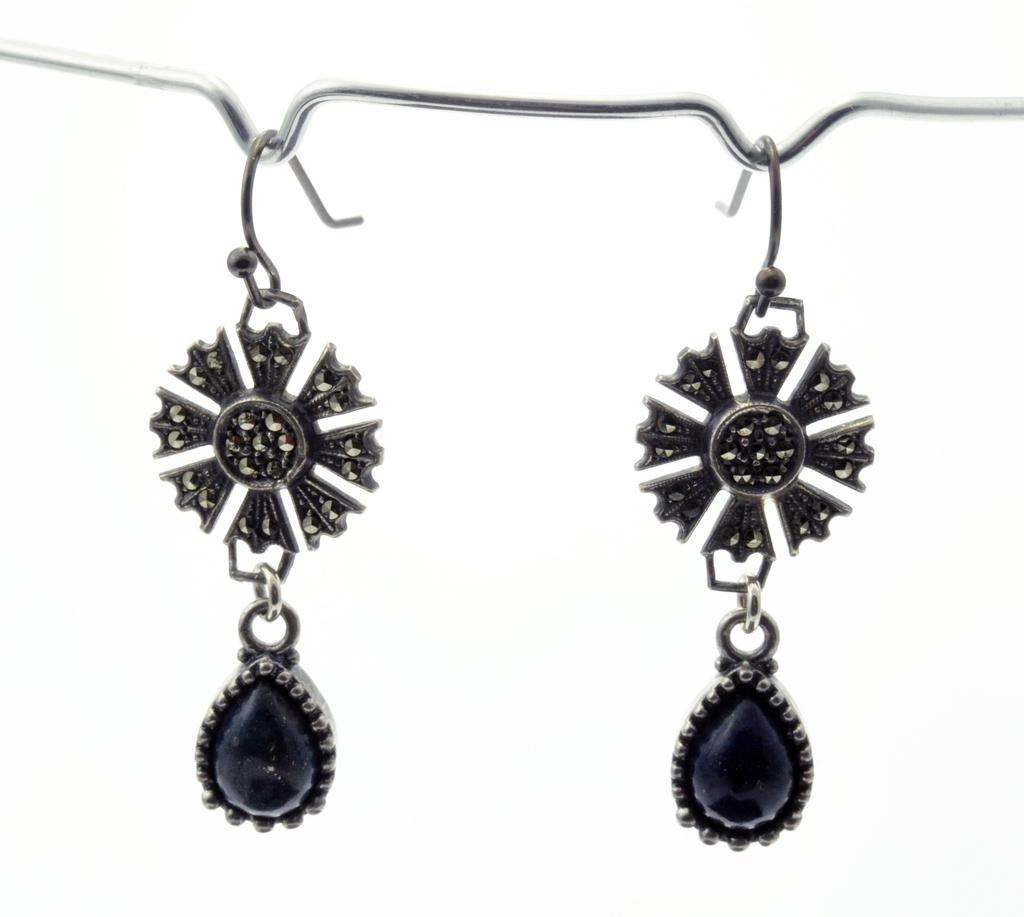earring: (631, 126, 875, 864), (144, 123, 384, 832)
